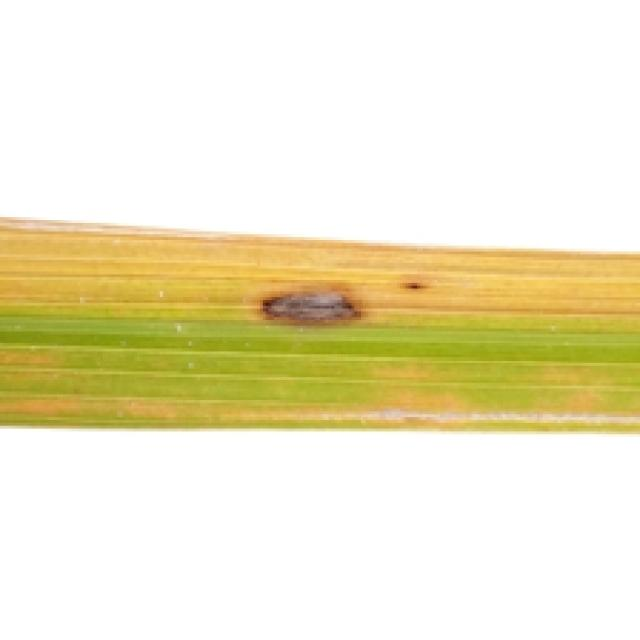Rice___Rice_Blast: (2, 215, 637, 438)
